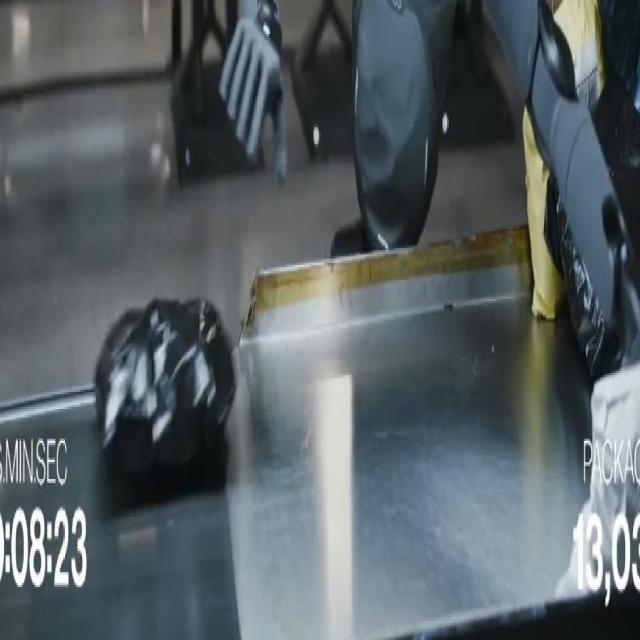package: (95, 299, 235, 474), (546, 183, 622, 379), (583, 362, 639, 559), (523, 111, 564, 319), (600, 0, 639, 99)
